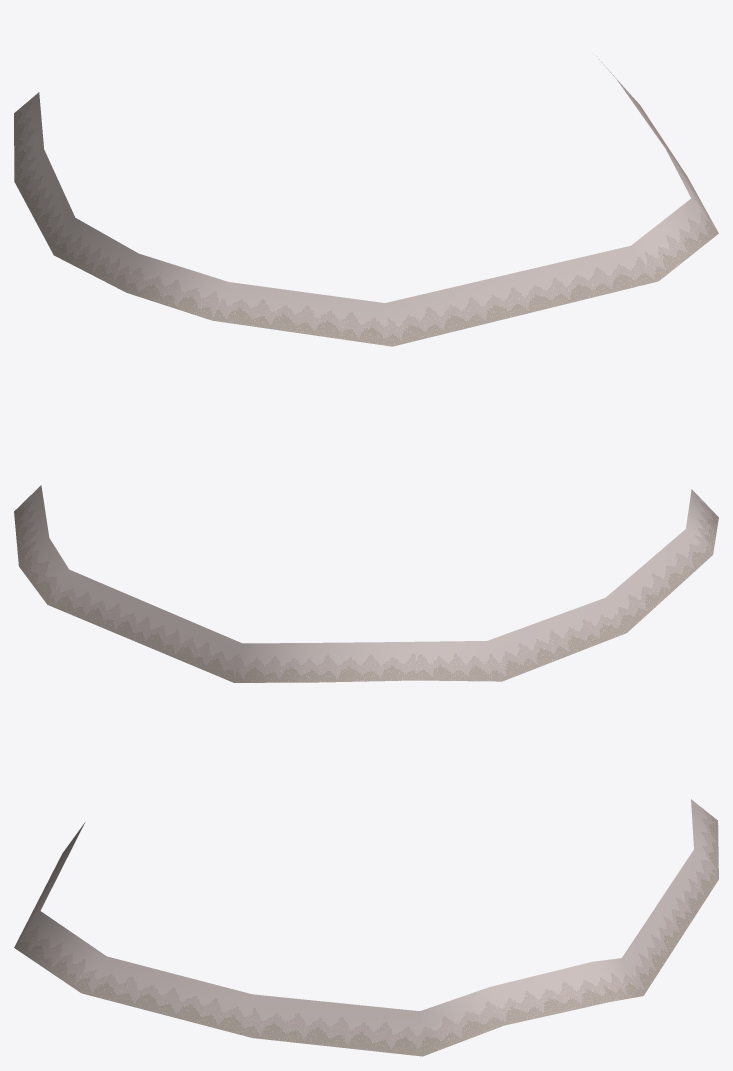
The model's file is kd_stage_1366d7_21_16_bounded.glb.
The picture shows the model from 3 angles, top to bottom: view 1: azimuth 30°, elevation 25°; view 2: azimuth 150°, elevation 25°; view 3: azimuth 270°, elevation 25°; orthographic projection. The views are drawn at different scales.
Parts seen in each view (by area): view 1: kd_stage_1366d7_21_16_bounded; view 2: kd_stage_1366d7_21_16_bounded; view 3: kd_stage_1366d7_21_16_bounded.
Part boxes in pixels (bbox=[...]): kd_stage_1366d7_21_16_bounded: bbox=[14, 56, 718, 346]; kd_stage_1366d7_21_16_bounded: bbox=[14, 485, 718, 682]; kd_stage_1366d7_21_16_bounded: bbox=[14, 799, 718, 1056].
Bounding box in the file's own units: 174 × 17.37 × 175.
1 material, 1 textured.
